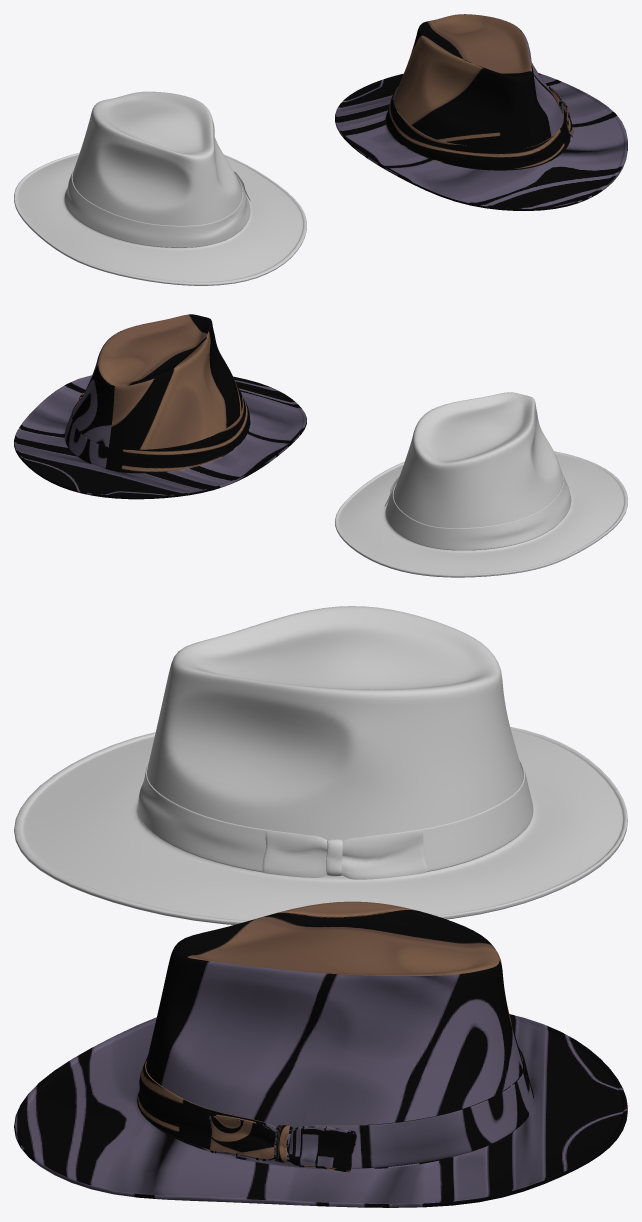
File: Hats.fbx
3 views of the same model, one above another, from view 1: azimuth 30°, elevation 25°; view 2: azimuth 150°, elevation 25°; view 3: azimuth 270°, elevation 25° (orthographic). The views are drawn at different scales.
Visible parts, largest first — view 1: hat1, hat4, Circle.012, Circle.009; view 2: hat1, hat4, Circle.009, Circle.012; view 3: hat1, hat4, Circle.009, Circle.012, Circle.003, Circle.013.
Part boxes in pixels (x1=…): hat1: x1=14, y1=91, x2=306, y2=285; hat4: x1=335, y1=14, x2=627, y2=210; Circle.012: x1=64, y1=168, x2=250, y2=247; Circle.009: x1=385, y1=85, x2=570, y2=169; hat1: x1=335, y1=392, x2=627, y2=577; hat4: x1=14, y1=314, x2=306, y2=499; Circle.009: x1=65, y1=387, x2=250, y2=473; Circle.012: x1=385, y1=469, x2=571, y2=550; hat1: x1=14, y1=606, x2=627, y2=924; hat4: x1=14, y1=901, x2=627, y2=1207; Circle.009: x1=138, y1=1047, x2=533, y2=1168; Circle.012: x1=138, y1=757, x2=533, y2=872; Circle.003: x1=262, y1=831, x2=427, y2=879; Circle.013: x1=209, y1=1114, x2=356, y2=1172.
Size of the model in its own units: 689 by 123 by 358.
